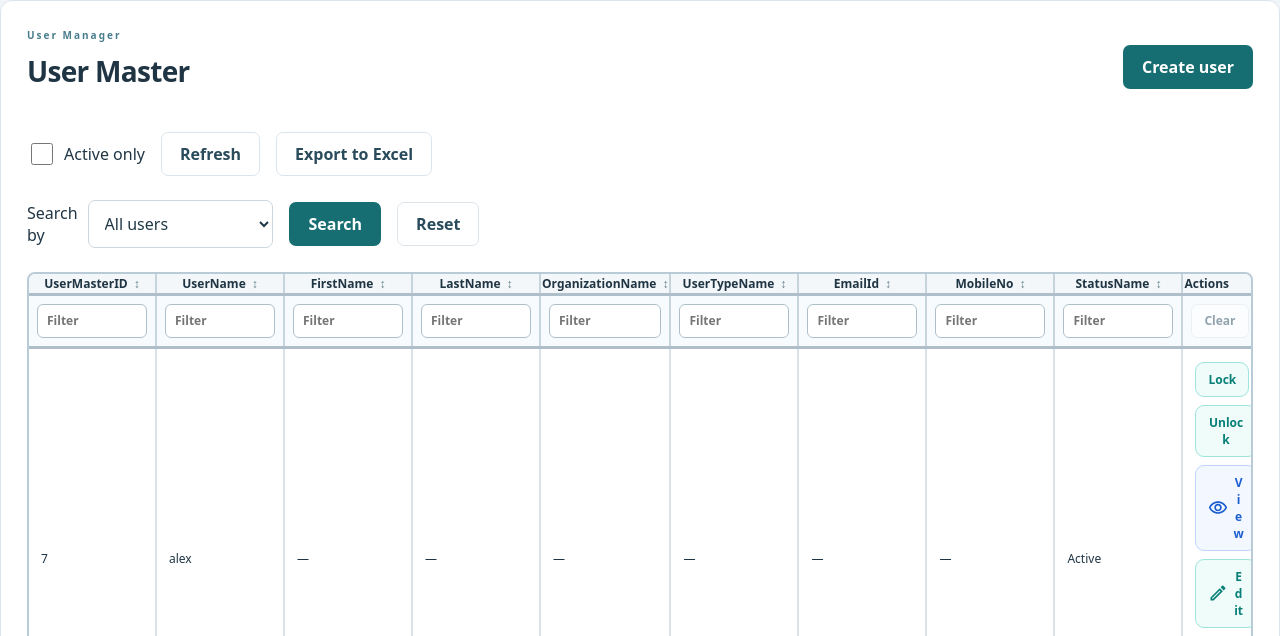
Scenario: opens details in a dismissible popup and hides passwords
Step 1. Click the button with aria-label "View user" → (1226, 508), box [1195,464,1257,550]
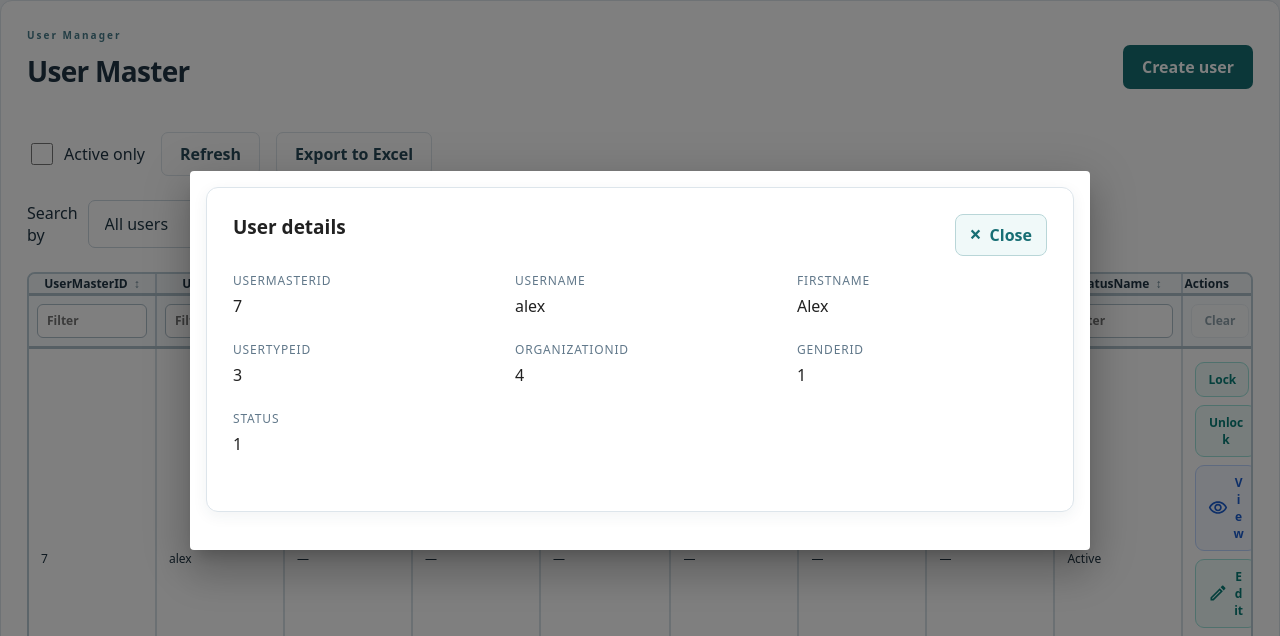
Expected: the text "Alex" is shown, [797,294,828,316]
Step 2. Click the button "Close" → (1001, 234), box [955,214,1047,256]
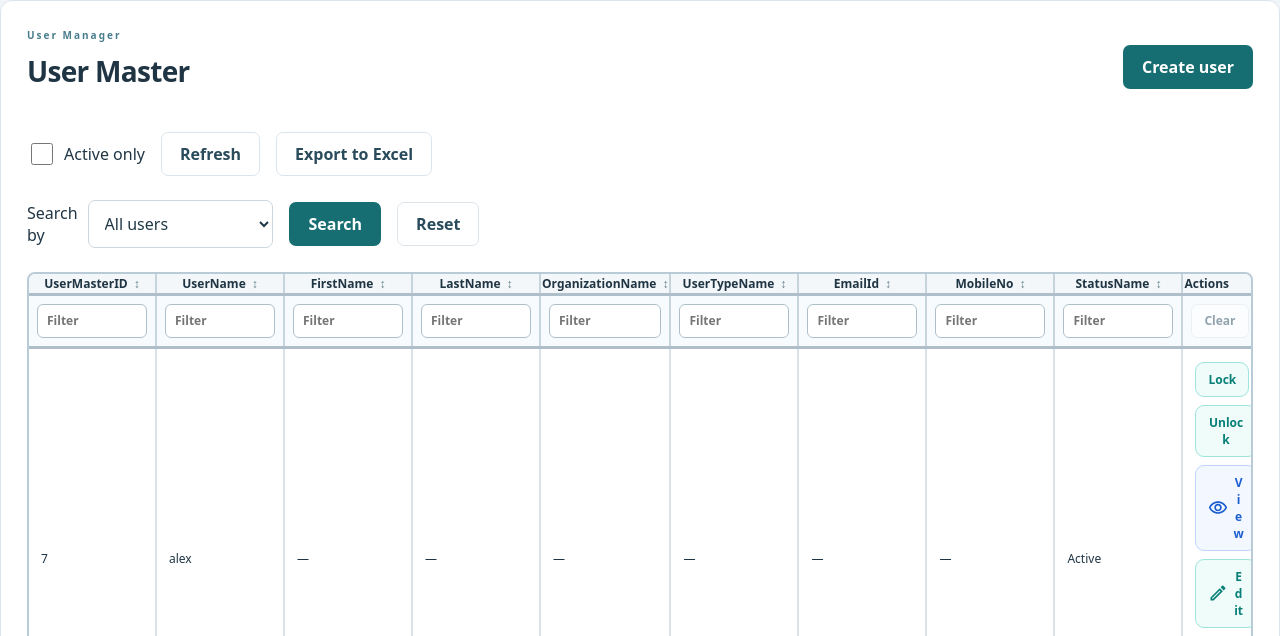
Expected: the dialog is gone
